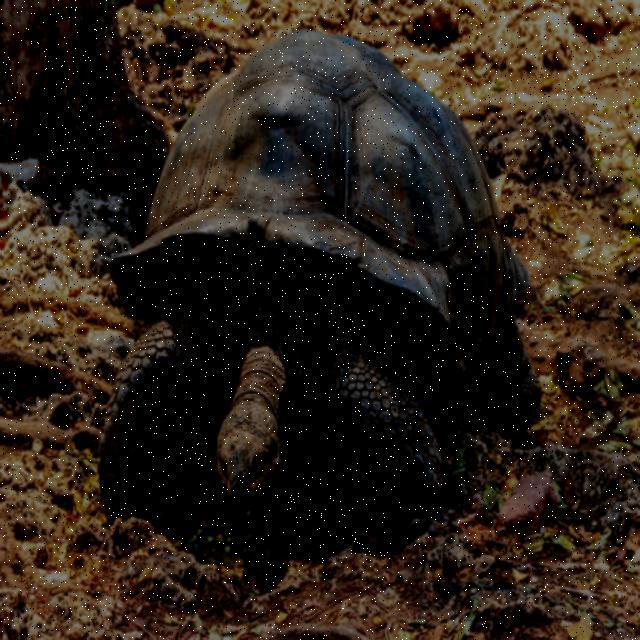tortoise: (96, 20, 532, 524)
